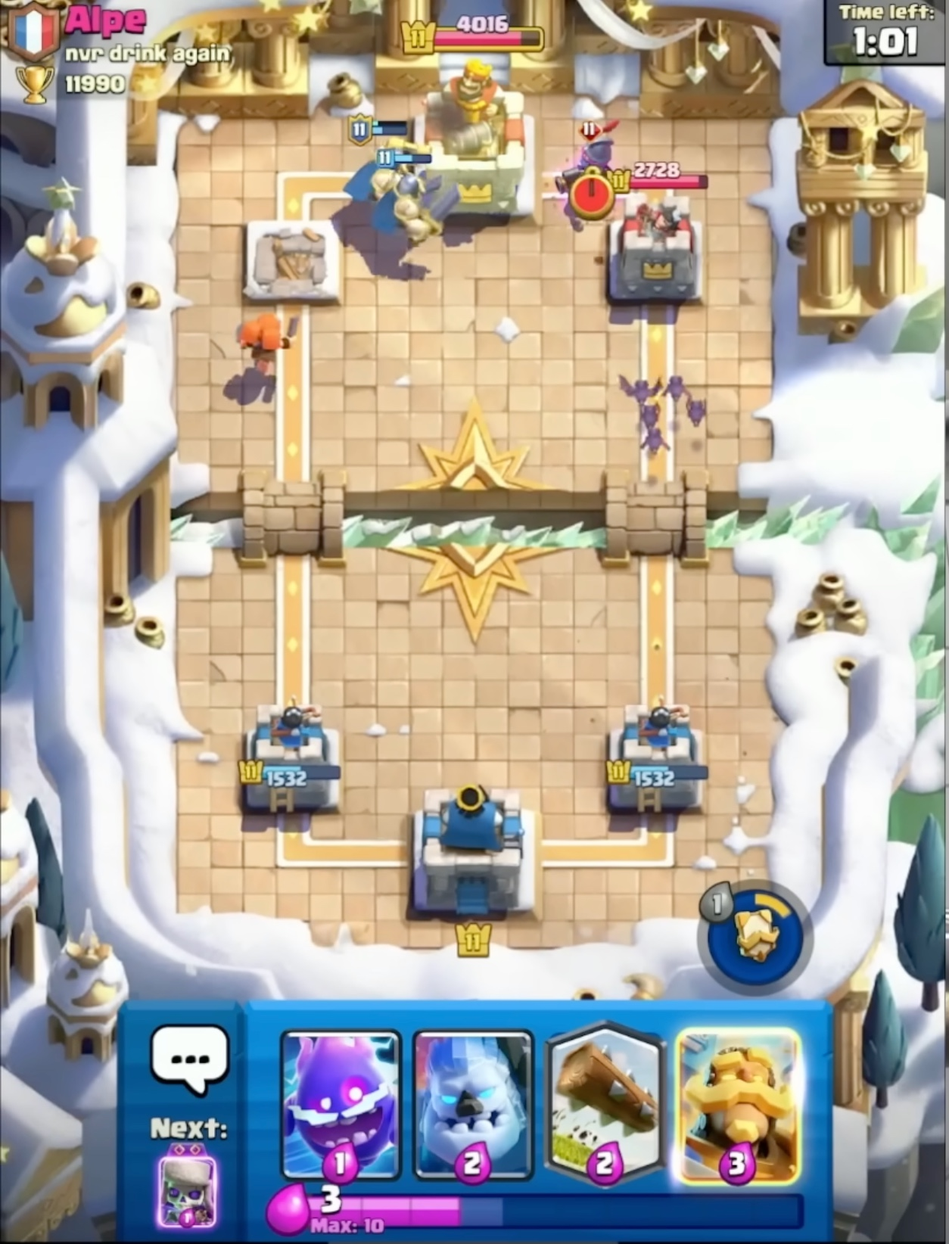evo-musketeer: (551, 115, 624, 228)
